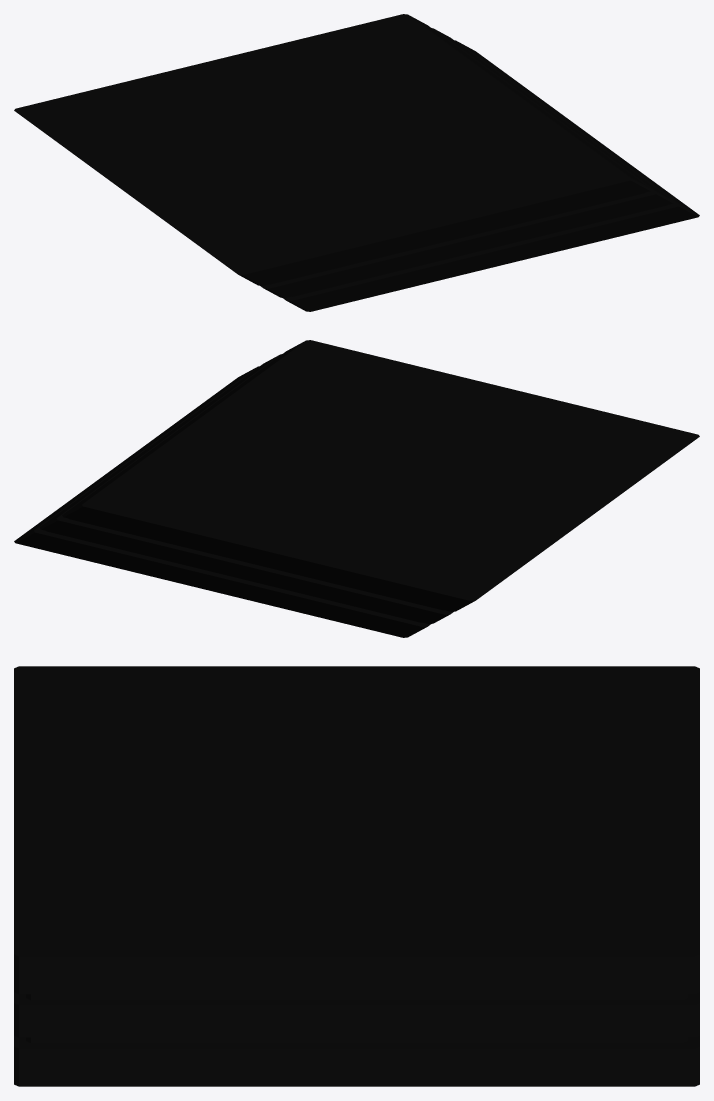
Rendered from raystation.fbx.
The picture shows the model from 3 angles, top to bottom: view 1: azimuth 30°, elevation 25°; view 2: azimuth 150°, elevation 25°; view 3: azimuth 270°, elevation 25°; orthographic projection. The views are drawn at different scales.
Parts seen in each view (by area): view 1: raystation; view 2: raystation; view 3: raystation.
Boxes of the visible parts, x1,y1,x2,y2 form: raystation: (14, 14, 699, 311); raystation: (14, 340, 699, 637); raystation: (14, 666, 699, 1086).
Bounding box in the file's own units: 70.34 × 7.76 × 60.
1 material, 1 textured.
